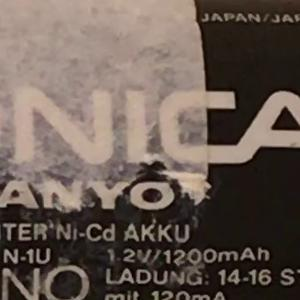NI-CD: (41, 215, 124, 244)
